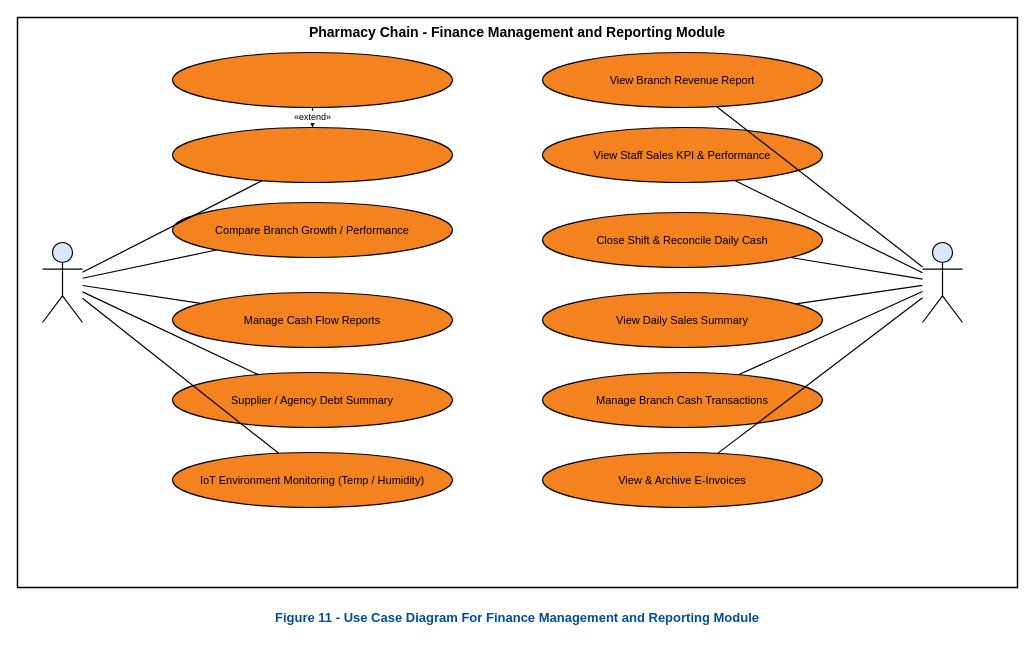
This 1036x650 diagram has some shape labels left out. Here are the shapes that lost their labels. From the top down, the box of each, then its label:
(171, 51, 453, 108): Export Financial Reports (Excel / PDF)
(171, 126, 453, 183): Chain Revenue Dashboard (Admin)
(41, 241, 83, 323): Admin
(921, 241, 963, 323): Branch Manager
